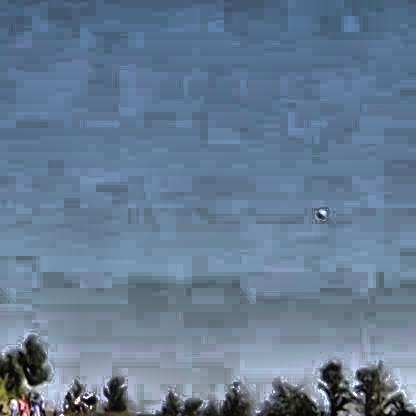golfball: (314, 207, 324, 216)
